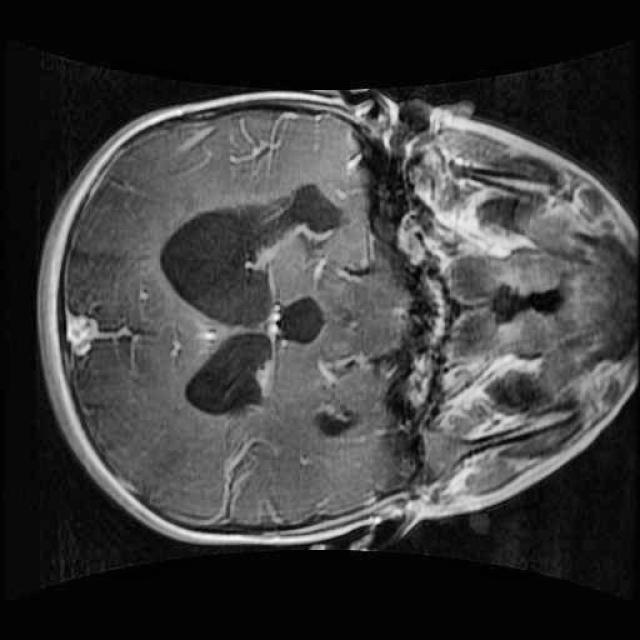Non-Tumor: (151, 176, 356, 334)
